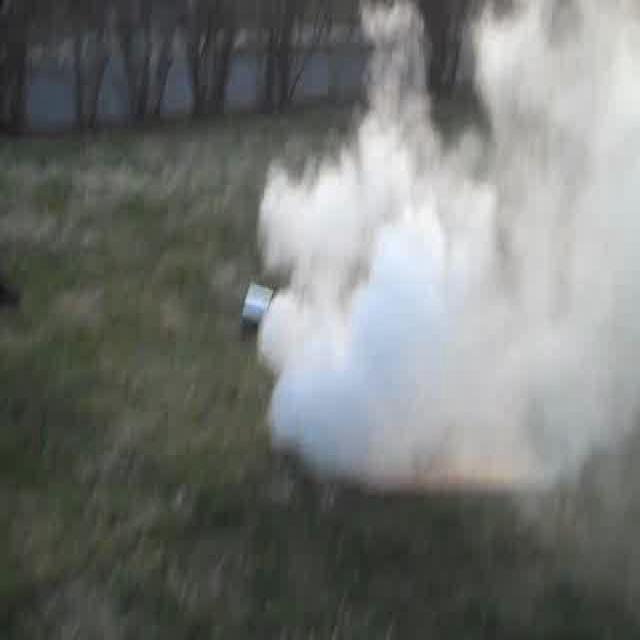Smoke: (260, 3, 634, 487), (280, 106, 631, 458)
